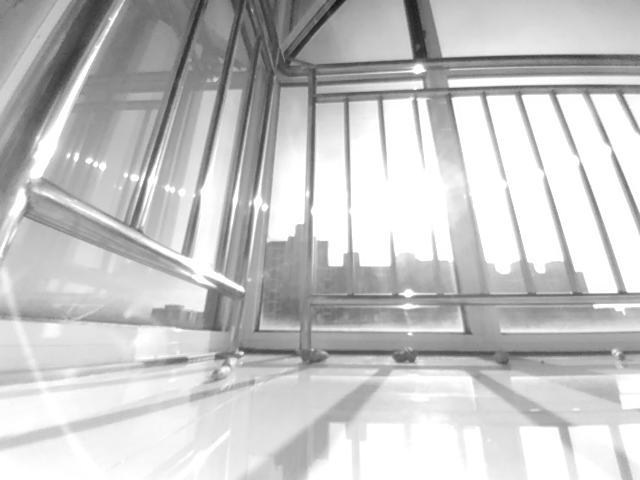pet feces: (211, 351, 243, 381), (297, 347, 331, 364), (391, 346, 418, 363), (494, 350, 510, 367), (609, 347, 627, 362)
